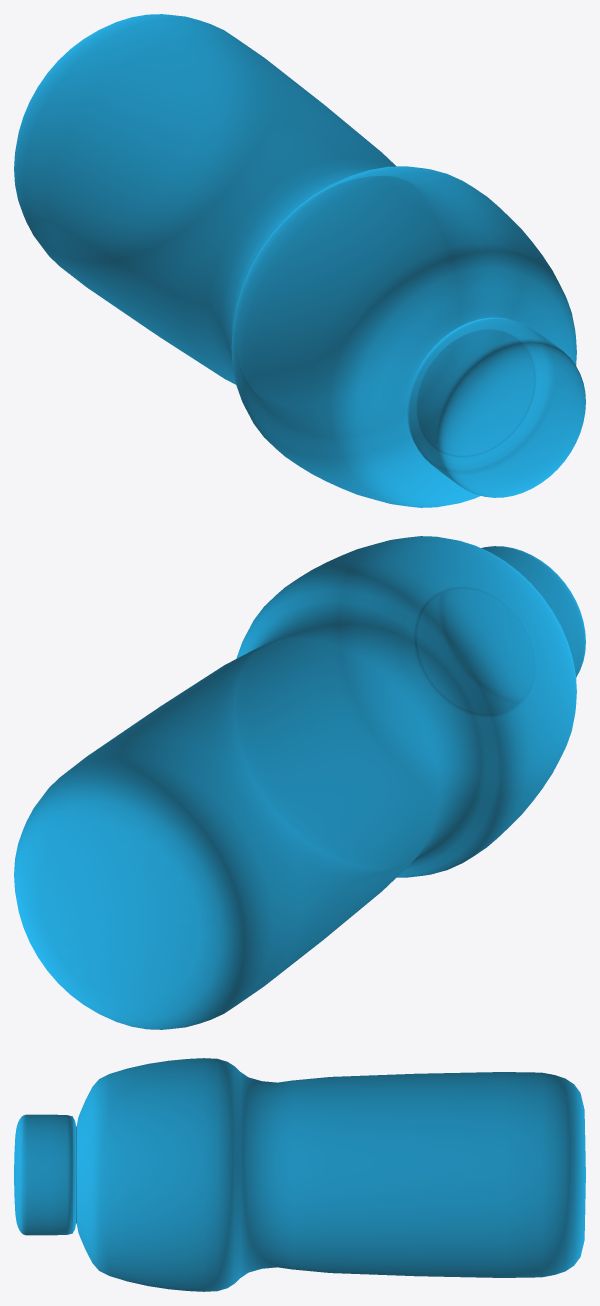
Rendered from model_align.obj.
3 renders of one model, top to bottom at view 1: azimuth 30°, elevation 25°; view 2: azimuth 150°, elevation 25°; view 3: azimuth 270°, elevation 25°, orthographic. The views are drawn at different scales.
Visible parts, largest first — view 1: mesh1_mesh1-geometry; view 2: mesh1_mesh1-geometry; view 3: mesh1_mesh1-geometry.
Part boxes in pixels (x1,y1,x2,y2): mesh1_mesh1-geometry: [14, 14, 585, 507]; mesh1_mesh1-geometry: [14, 536, 585, 1029]; mesh1_mesh1-geometry: [14, 1058, 585, 1291].
Size of the model in its own units: 0.0991 by 0.0991 by 0.2422.
